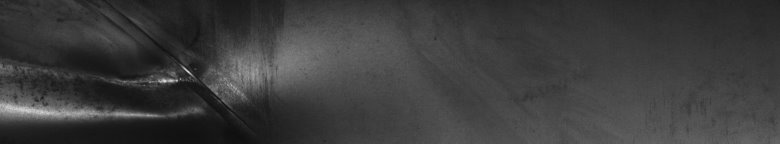ke: (4, 4, 281, 132)
